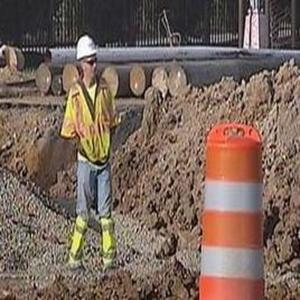white: (76, 34, 100, 78)
